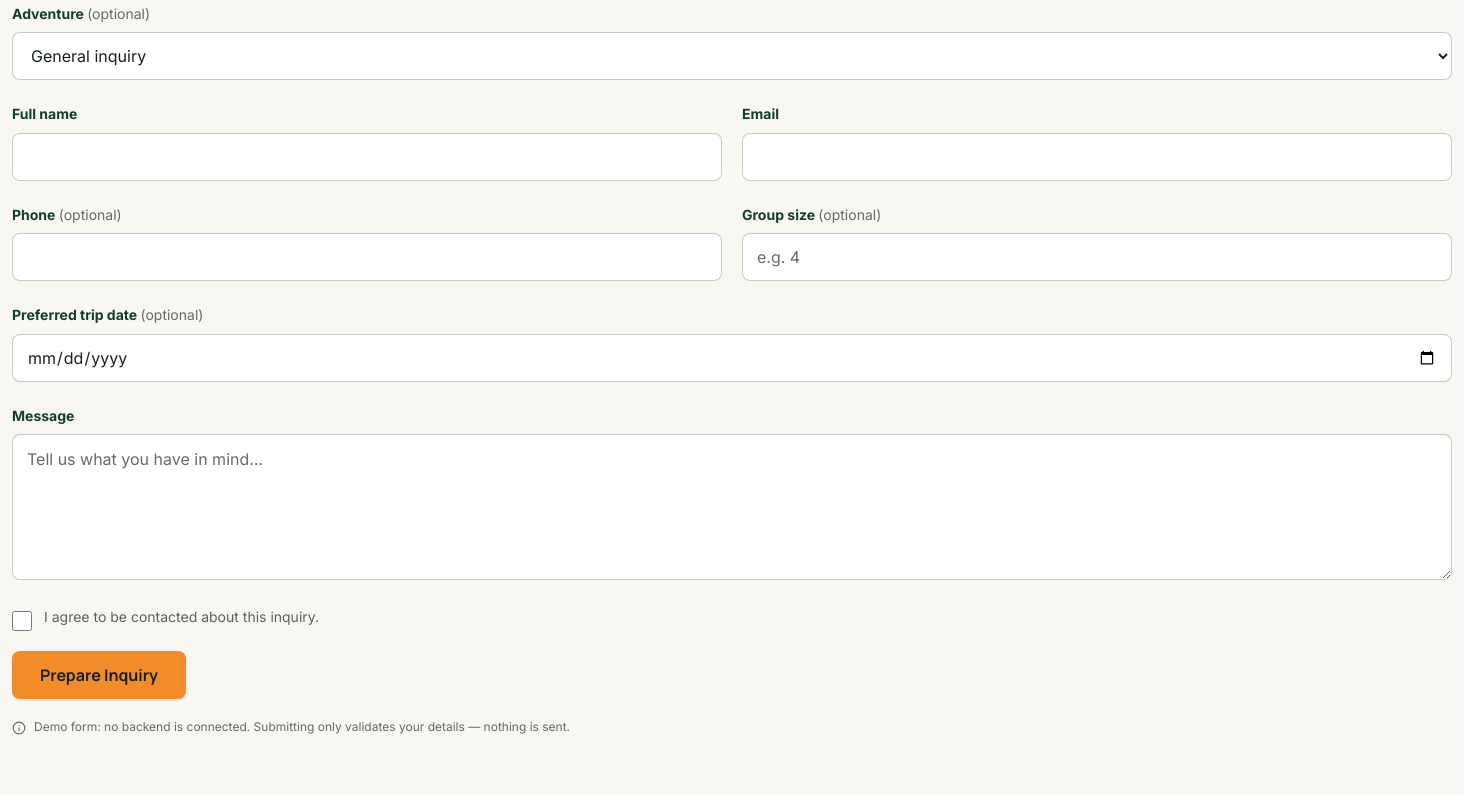
Test: ContactForm › clears an error when the field is corrected
Click the button "Prepare Inquiry": (99, 675) [12,651,186,699]
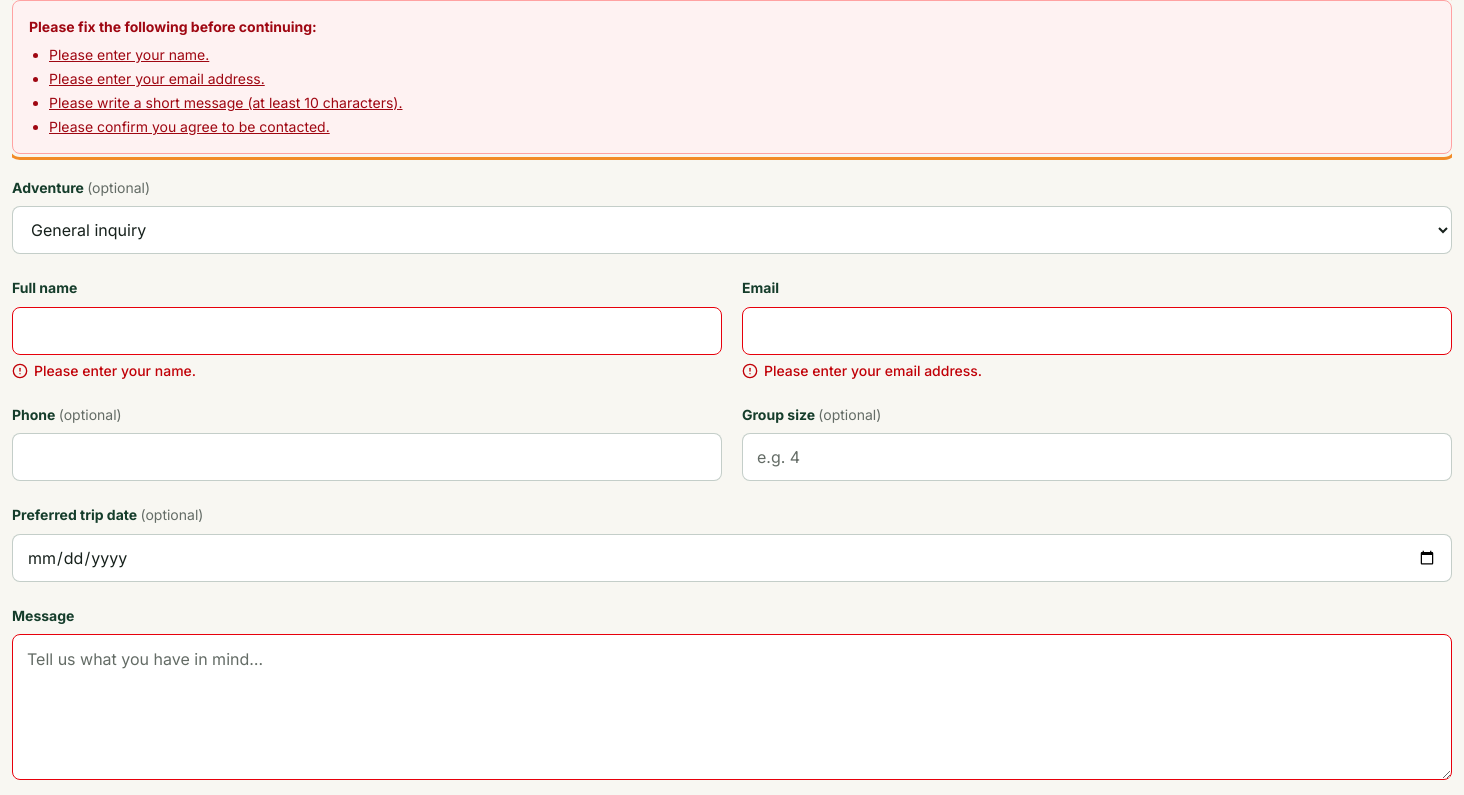
In the field labelled "Full name": (367, 331) [12,307,722,355], type "Ana"
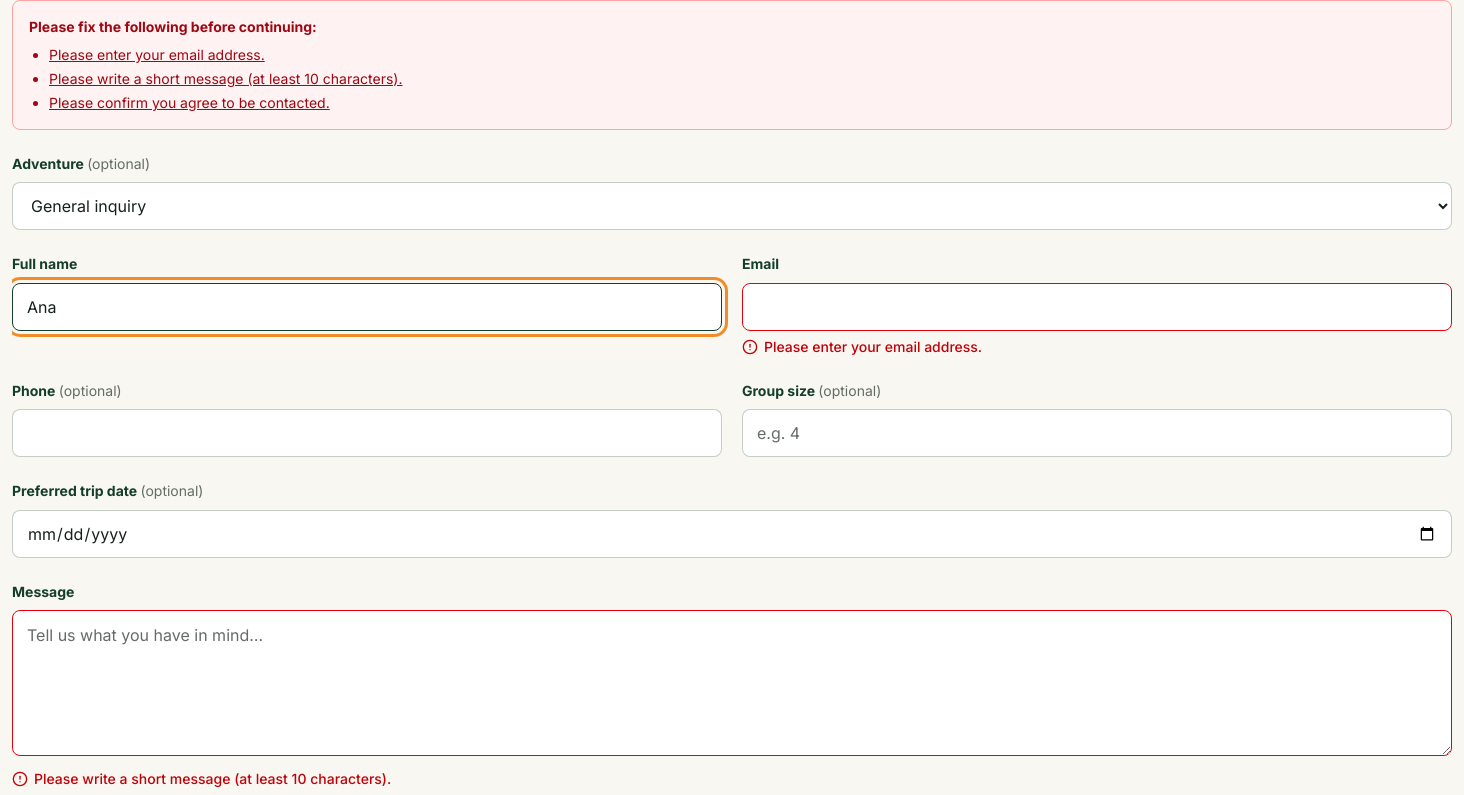
Now the element with id "name-error" is gone
